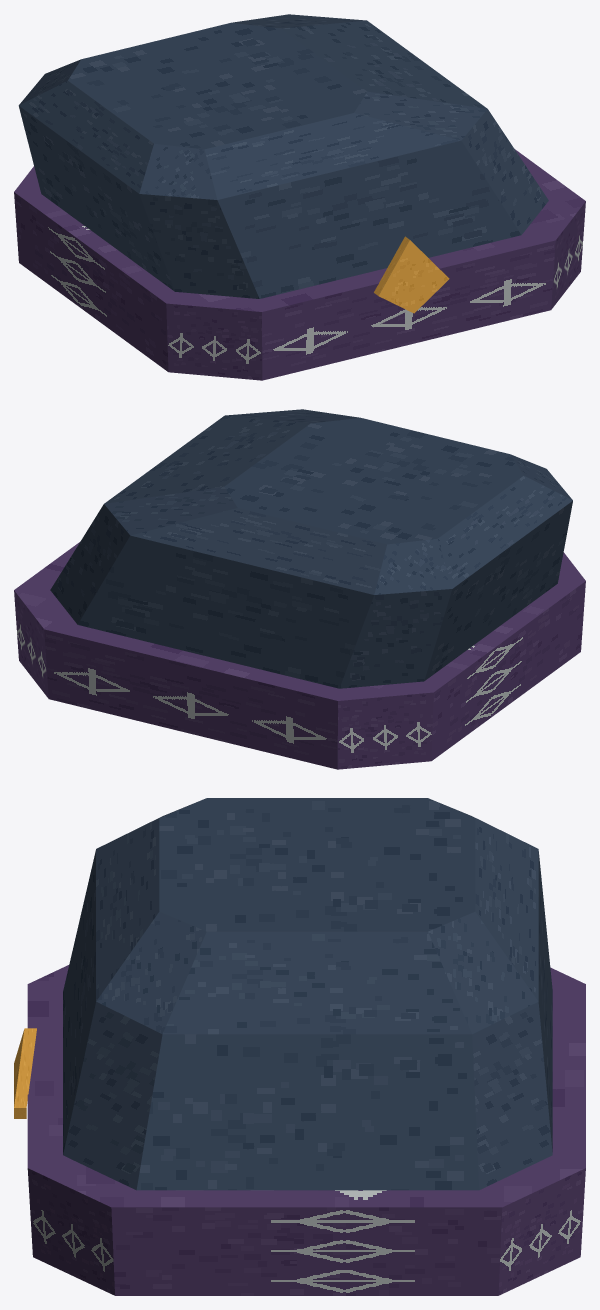
The model's file is hat2.glb.
3 renders of one model, top to bottom at view 1: azimuth 30°, elevation 25°; view 2: azimuth 150°, elevation 25°; view 3: azimuth 270°, elevation 25°, orthographic. The views are drawn at different scales.
Visible parts, largest first — view 1: runa_hat; view 2: runa_hat; view 3: runa_hat.
Part boxes in pixels (<box>): runa_hat: <box>14,14,585,380</box>; runa_hat: <box>14,409,585,769</box>; runa_hat: <box>14,798,585,1295</box>.
Size of the model in its own units: 0.6 by 0.265 by 0.543.
Materials: 1 (1 with a texture image).
